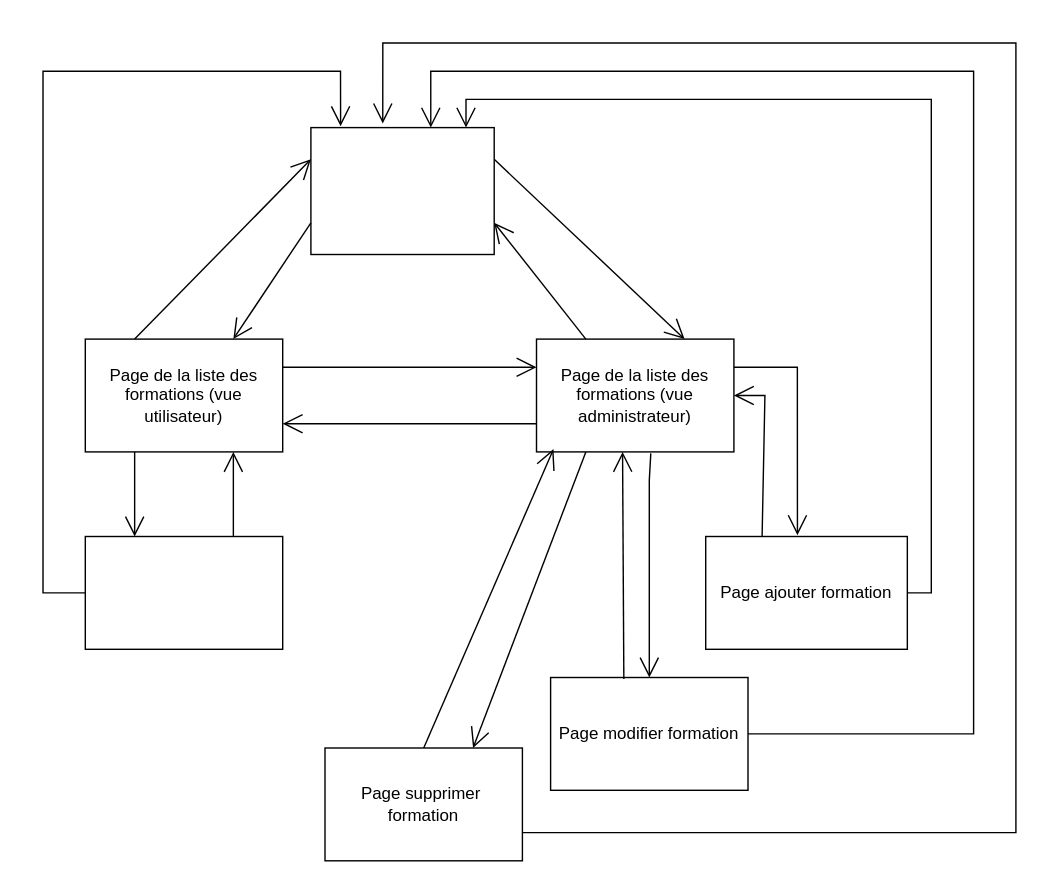
Some shapes in this 1060 by 885 pixel diagram are drawn without their labels. Each missing label, with the box of its shape:
Page d'accueil / de description de la mission: (309, 126, 494, 255)
Page de détail d'une formation: (84, 535, 283, 649)
